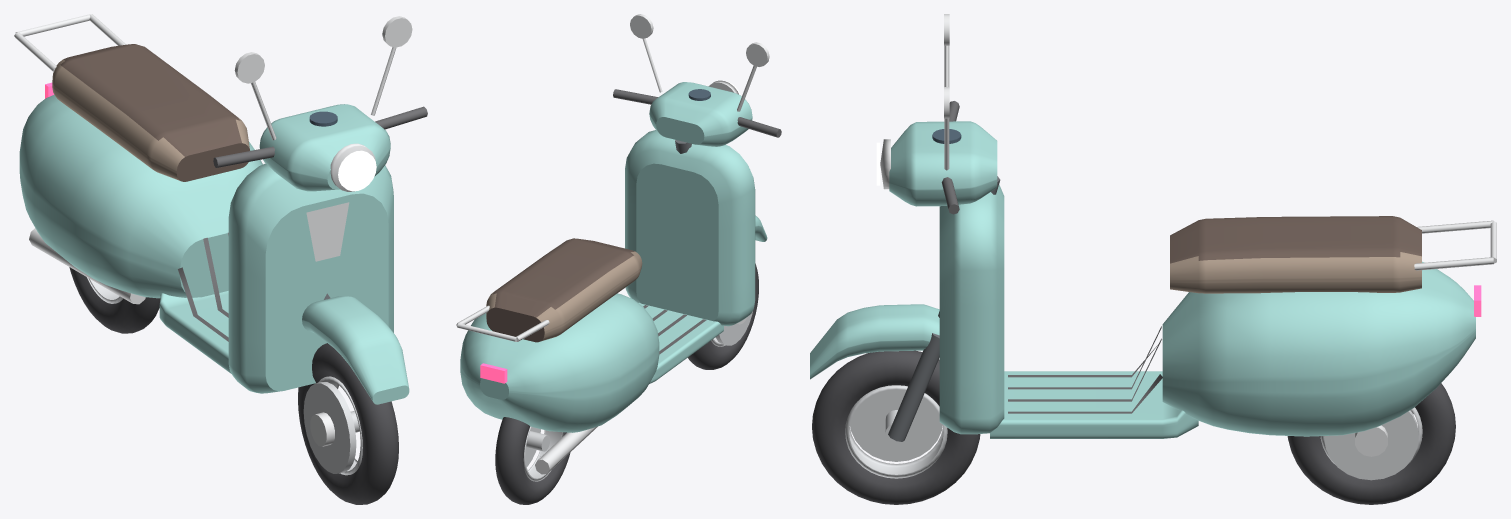
Rendered from scooter-moped.glb.
3 renders of one model, left to right at view 1: azimuth 30°, elevation 25°; view 2: azimuth 150°, elevation 25°; view 3: azimuth 270°, elevation 25°, orthographic. The views are drawn at different scales.
Visible parts, largest first — view 1: scooter-moped; view 2: scooter-moped; view 3: scooter-moped.
Boxes of the visible parts, box(x1,y1,x2,y2) form: scooter-moped: box(14, 14, 427, 504); scooter-moped: box(456, 14, 781, 504); scooter-moped: box(810, 14, 1496, 504).
Bounding box in the file's own units: 0.6834 × 1.38 × 1.91.
